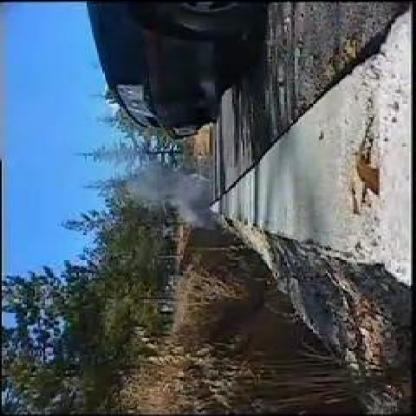-: (140, 175, 221, 229)
